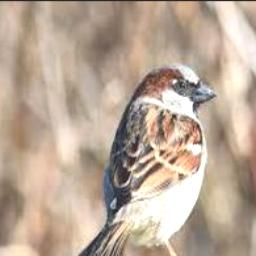Sparrow: (74, 62, 218, 256)
